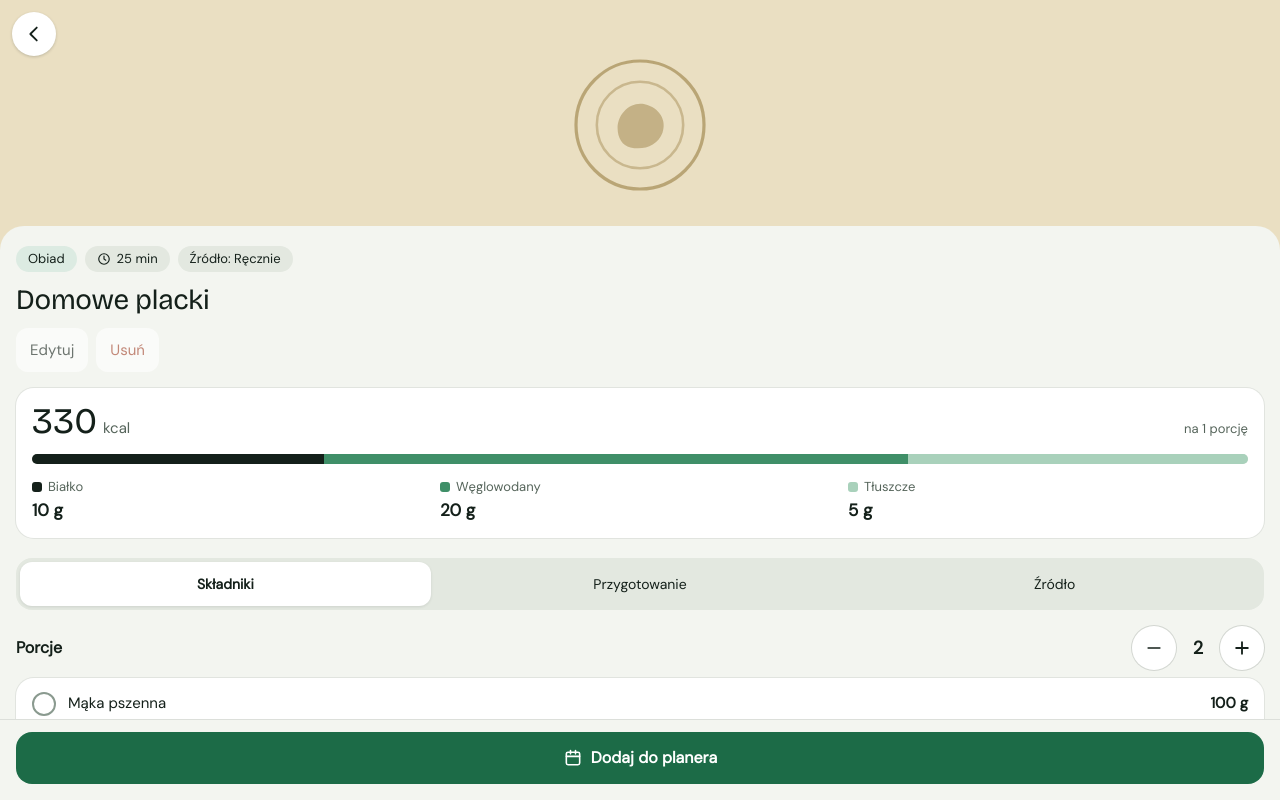
Test: skaluje ilości w UI, do smaku bez zmian; makro nadal na 1 porcję
Check: the button with aria-label "Mąka pszenna, 100 g" is shown, box 16,678 -> 1264,730
Click the button named "Więcej porcji": (1242, 648) 1220,626 -> 1264,670
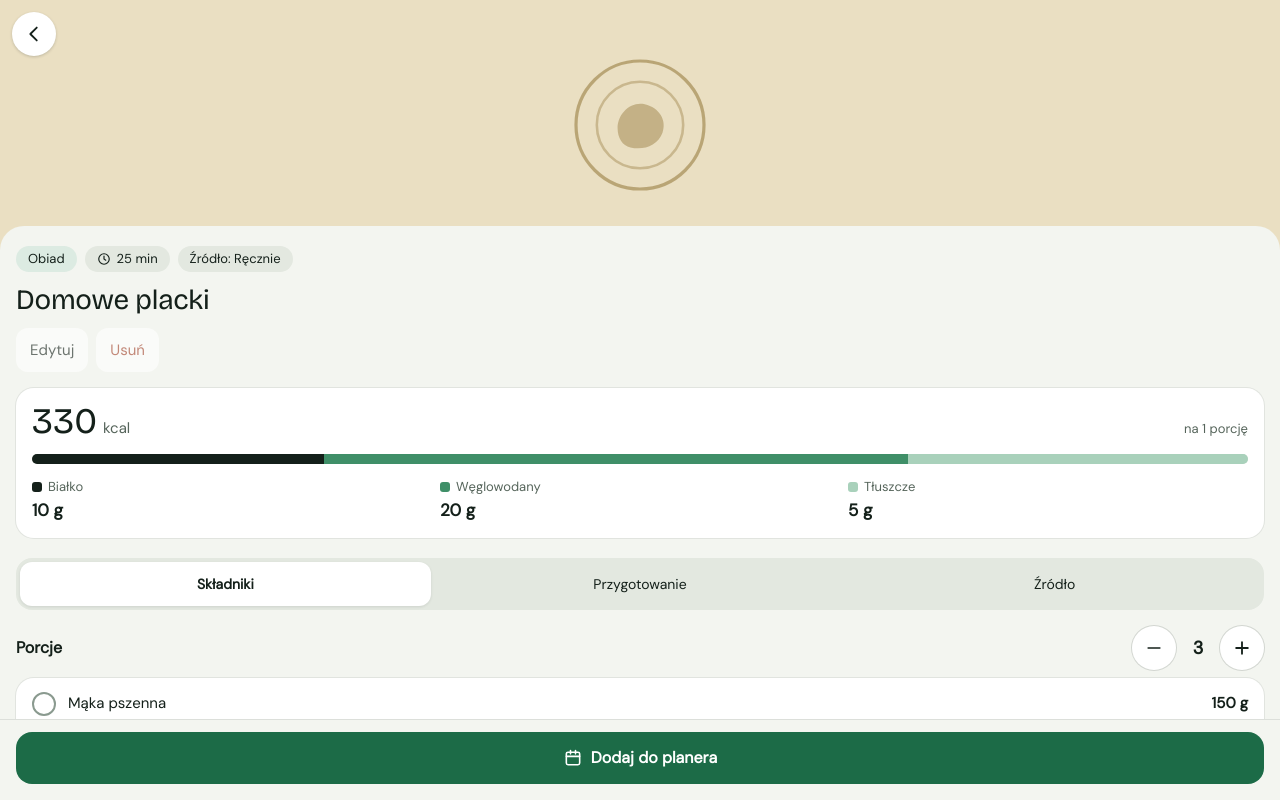
Check: the button with aria-label "Sól, do smaku" is shown, box 16,730 -> 1264,782
Check: the text named "Liczba porcji" reads "3", box 1193,636 -> 1203,660
Check: the button with aria-label "Mąka pszenna, 150 g" is shown, box 16,678 -> 1264,730
